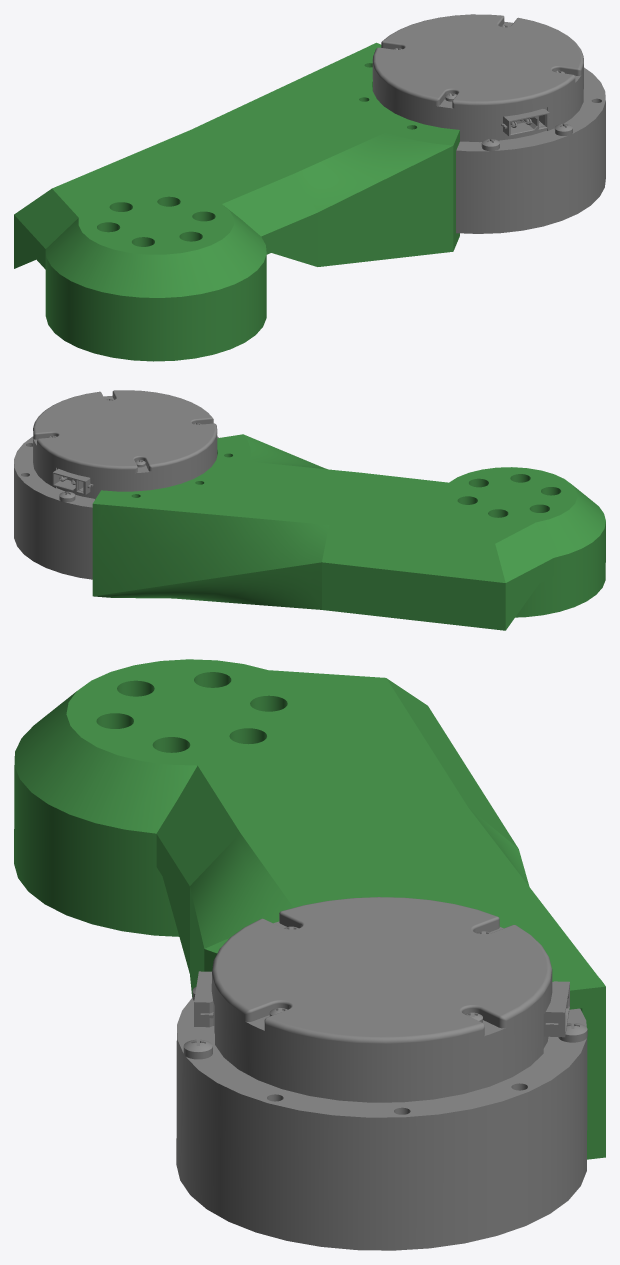
File: RS02_RightAnklePitch.dae
3 renders of one model, top to bottom at view 1: azimuth 30°, elevation 25°; view 2: azimuth 150°, elevation 25°; view 3: azimuth 270°, elevation 25°, orthographic. The views are drawn at different scales.
Visible parts, largest first — view 1: RS02_RightAnklePitch; view 2: RS02_RightAnklePitch; view 3: RS02_RightAnklePitch.
Boxes of the visible parts, x1=… form: RS02_RightAnklePitch: x1=14, y1=14, x2=605, y2=361; RS02_RightAnklePitch: x1=14, y1=390, x2=605, y2=630; RS02_RightAnklePitch: x1=14, y1=659, x2=605, y2=1250.
Bounding box in the file's own units: 0.2084 × 0.113 × 0.0454.
